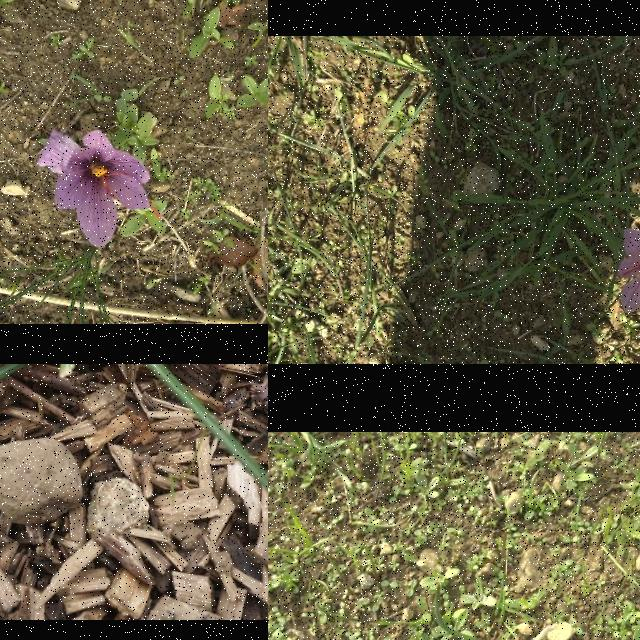flower: (38, 128, 162, 248), (616, 229, 640, 313)
